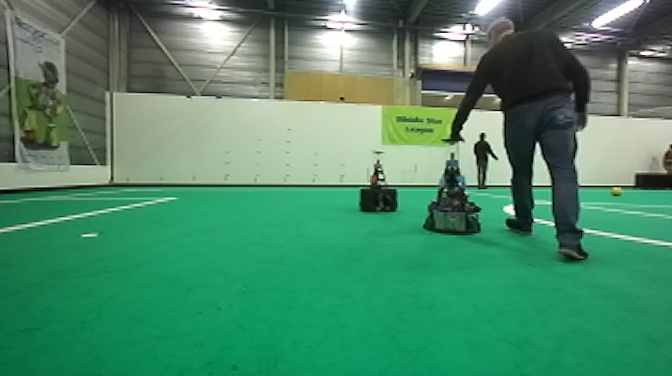ball: (609, 184, 623, 197)
human: (445, 16, 590, 263), (472, 130, 500, 191)
robot: (420, 137, 482, 236), (358, 150, 399, 214)
